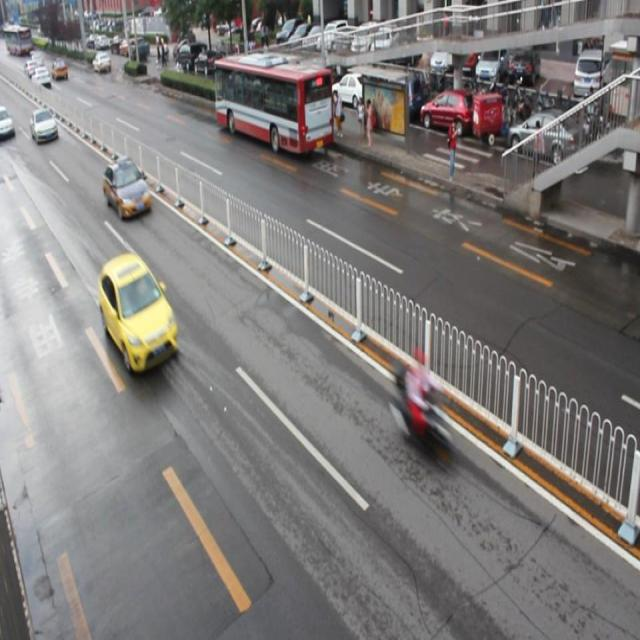car: (98, 250, 179, 372), (103, 157, 154, 220)
van: (214, 55, 332, 155)
